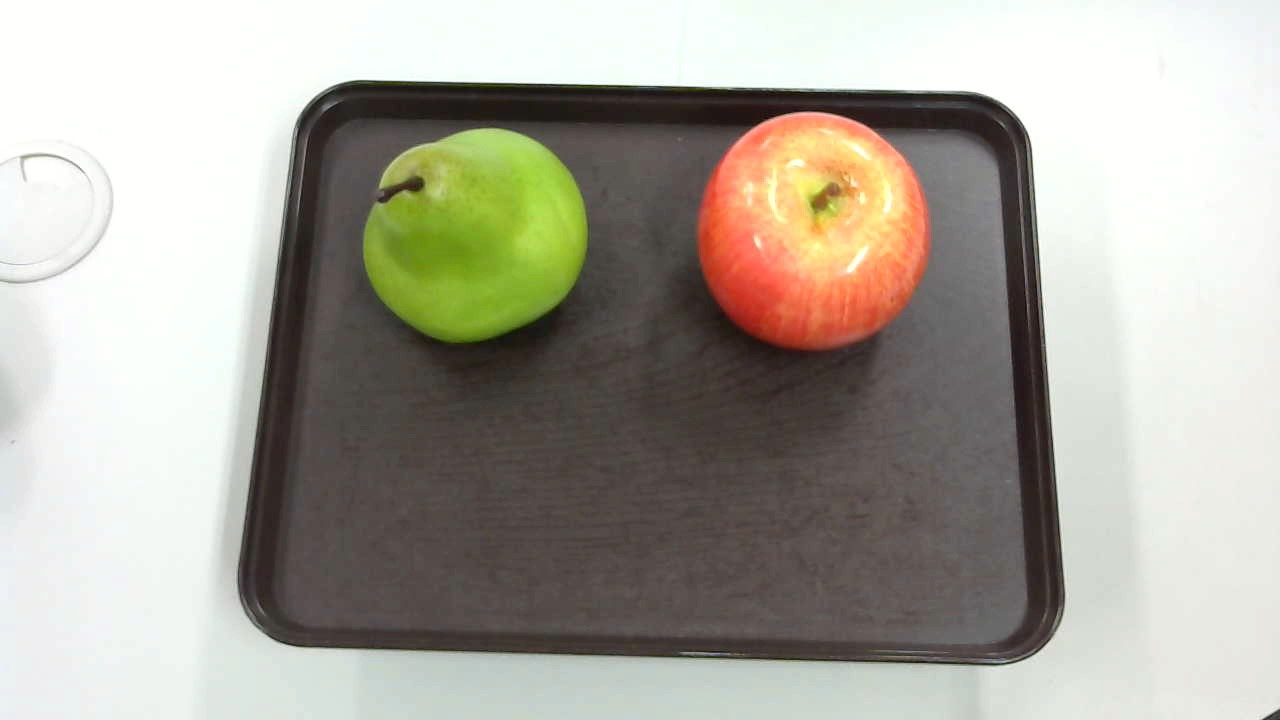green pear: (362, 127, 587, 351)
red apple: (694, 108, 936, 352)
